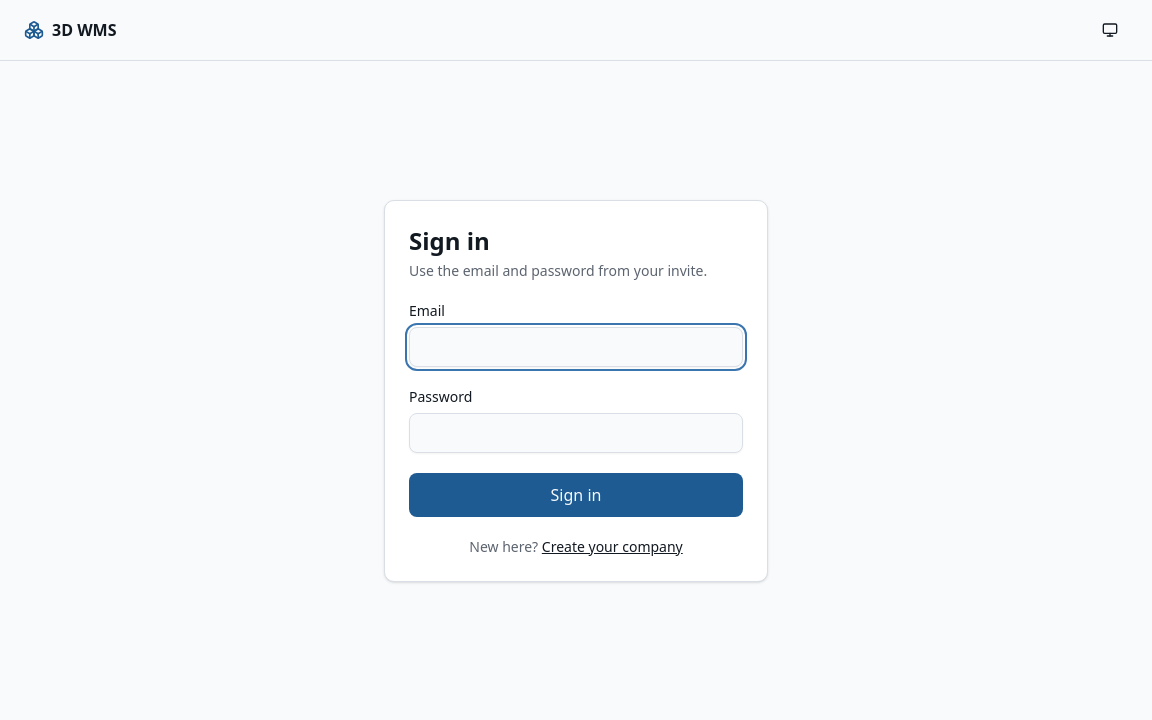
Test case: LoginPage › shows the generic message when sign-in fails
The image size is (1152, 720).
Type "a@b.lk" into the field labelled "Email" at [576, 346], box [409,326,743,366]
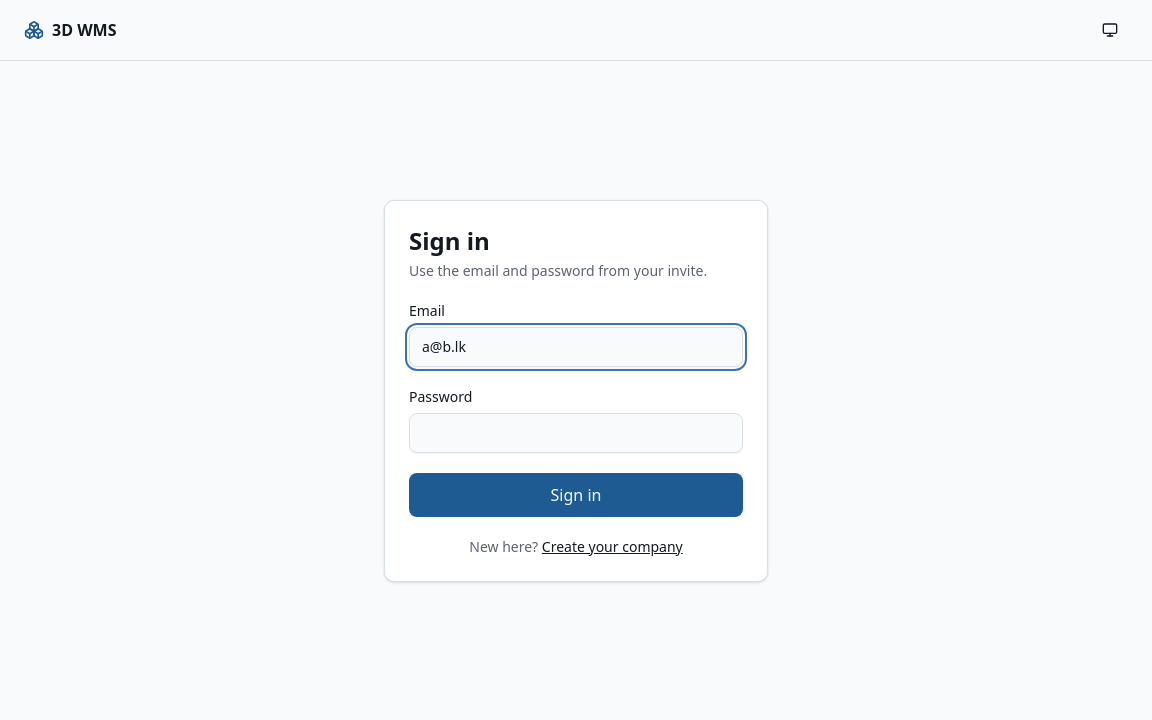
Type "wrong-password" into the password field labelled "Password" at [576, 432], box [409,412,743,452]
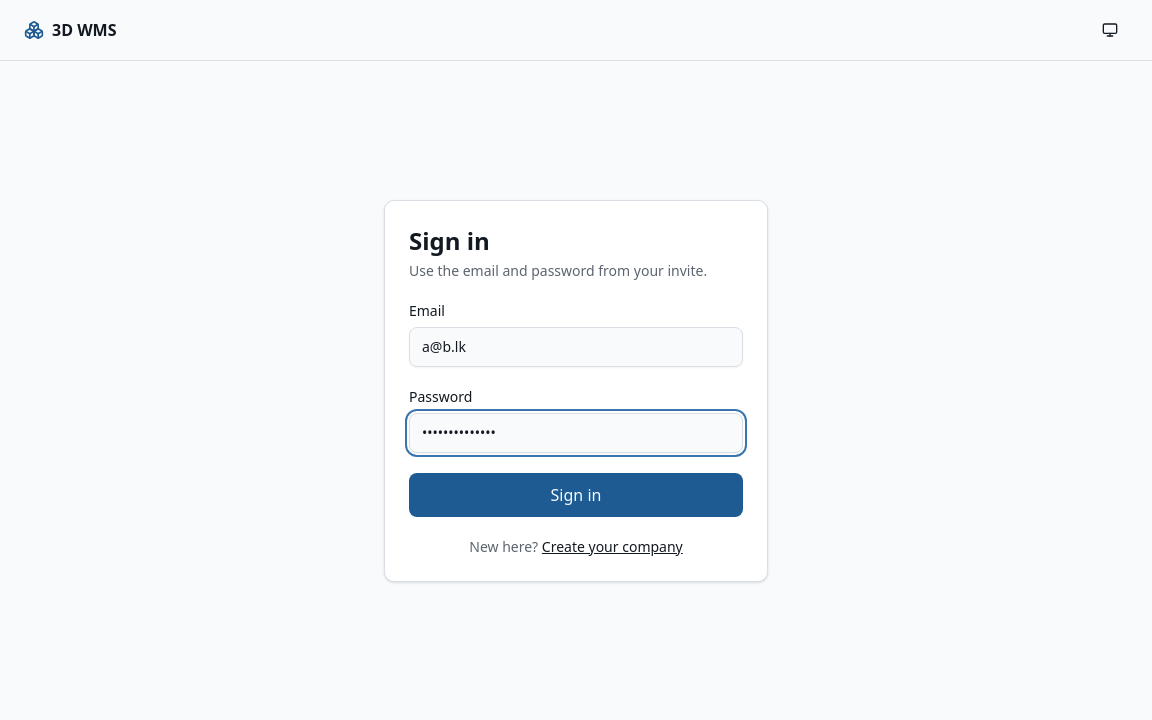
Click the button "Sign in" at [576, 494], box [409,472,743,516]
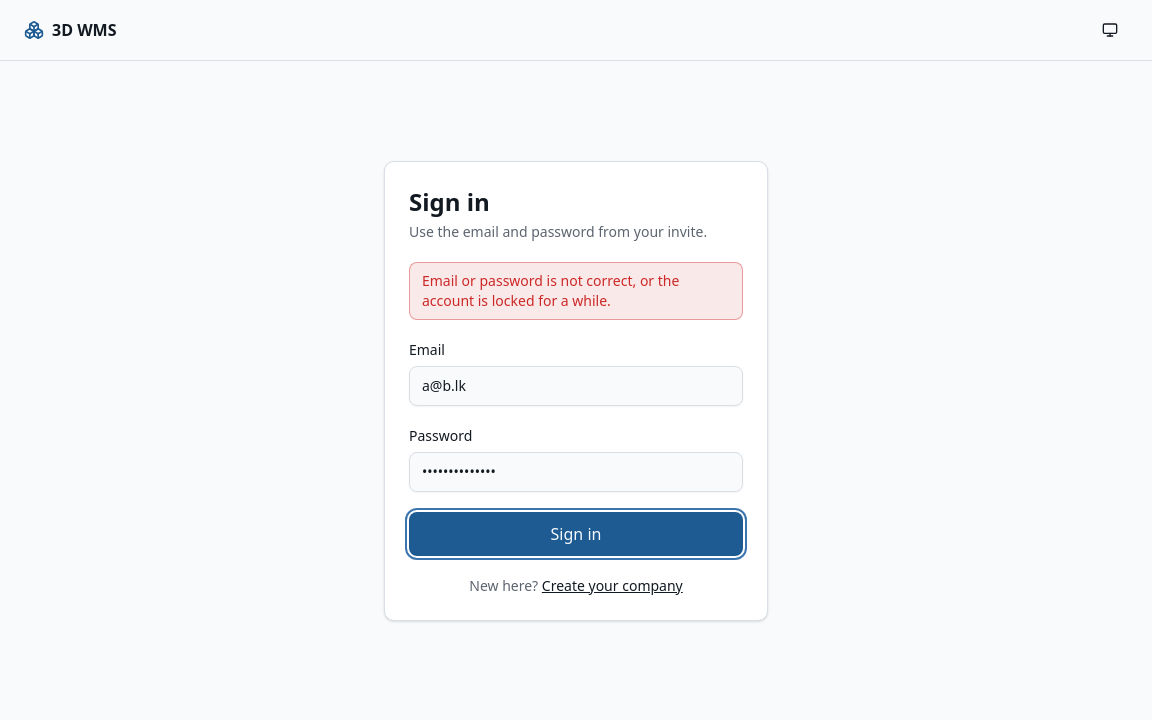
Expected: the message shows "Email or password is not correct", [422,270,679,310]
